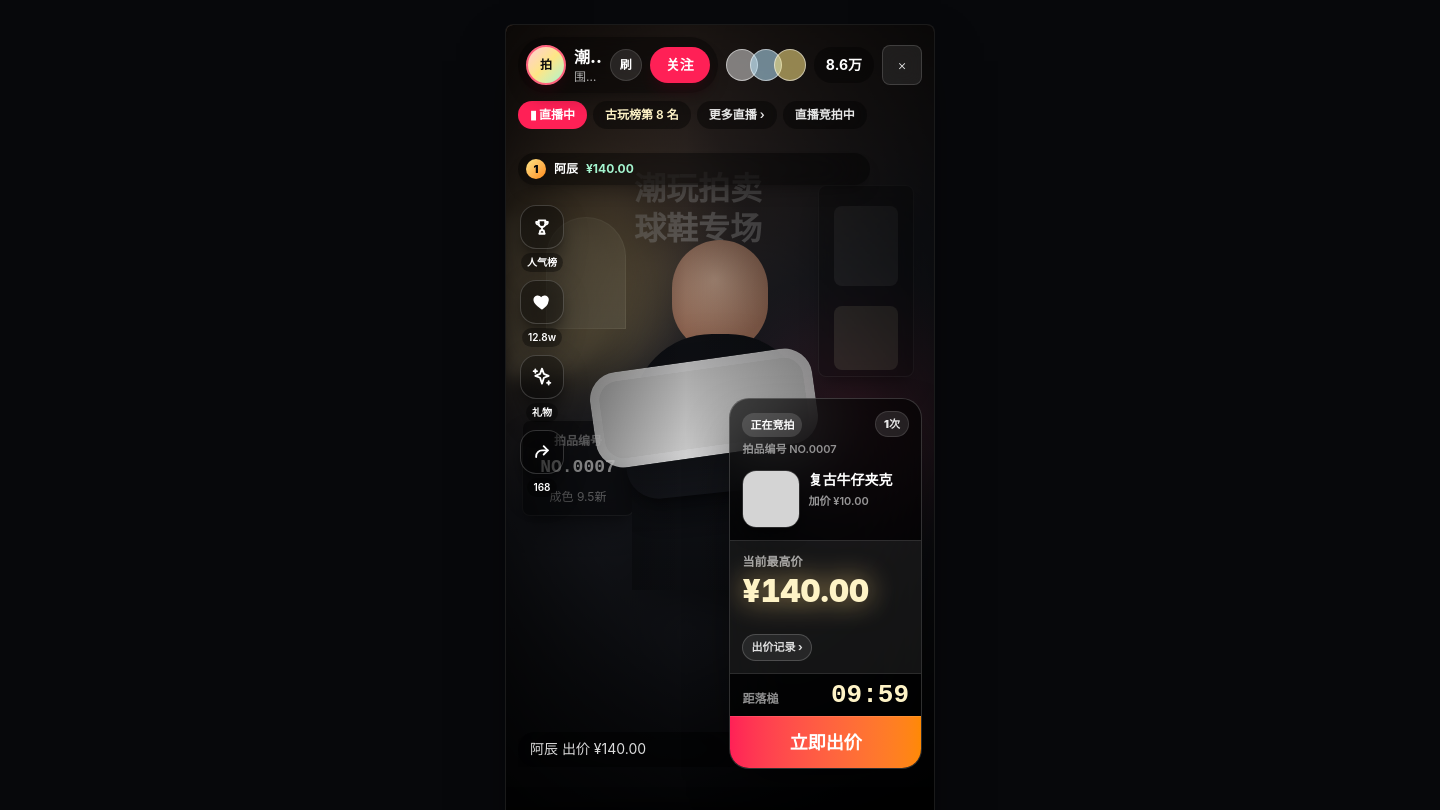
Test: LiveAuctionRoom › updates current price and the next bid button from websocket price_update messages
The image size is (1440, 810).
expect the 1st text "¥140.00" is shown: met, box [586, 161, 634, 177]
Click the button with aria-label "打开出价面板" at (826, 742), box [730, 716, 921, 768]
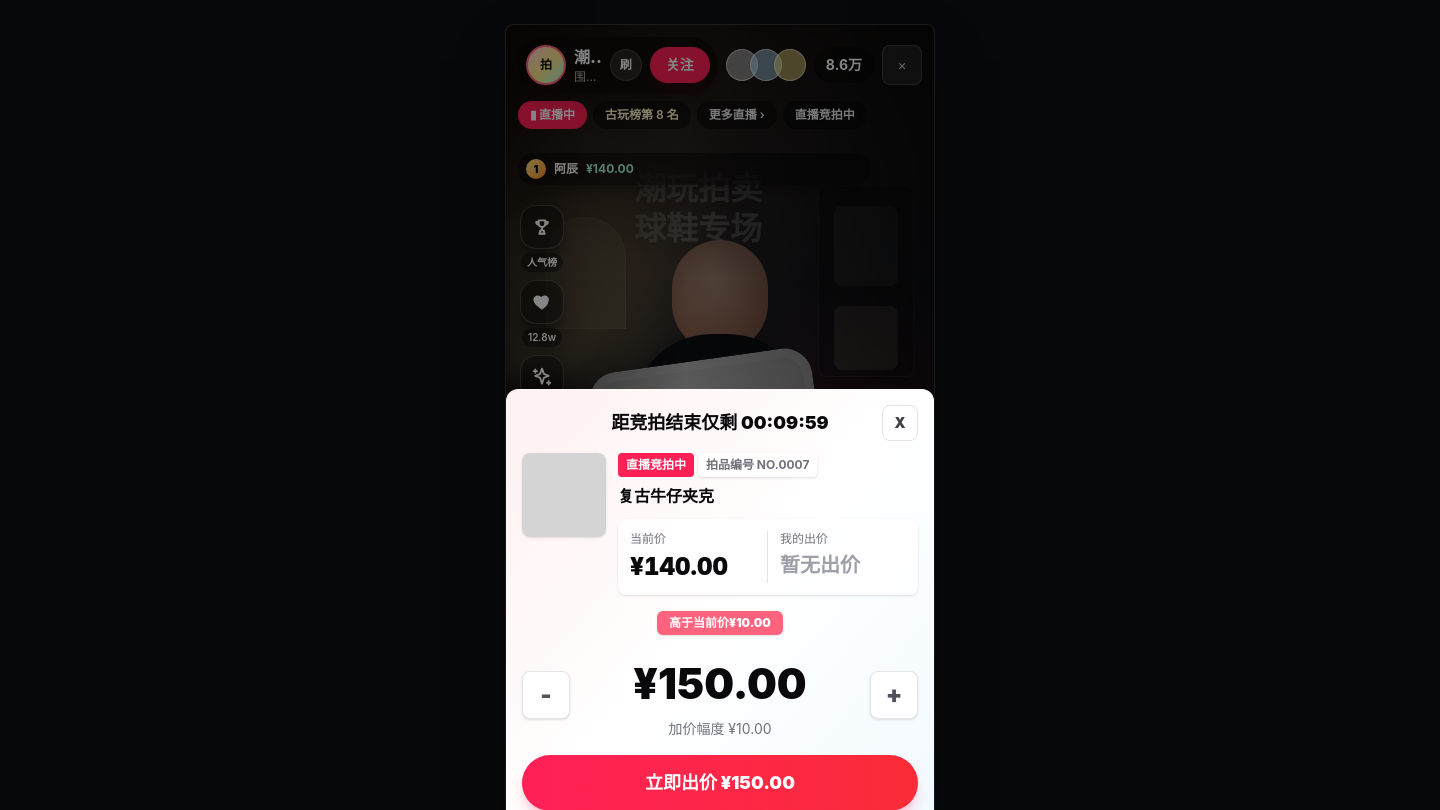
expect the button "立即出价 ¥150.00" is enabled: met, box [522, 755, 918, 809]
